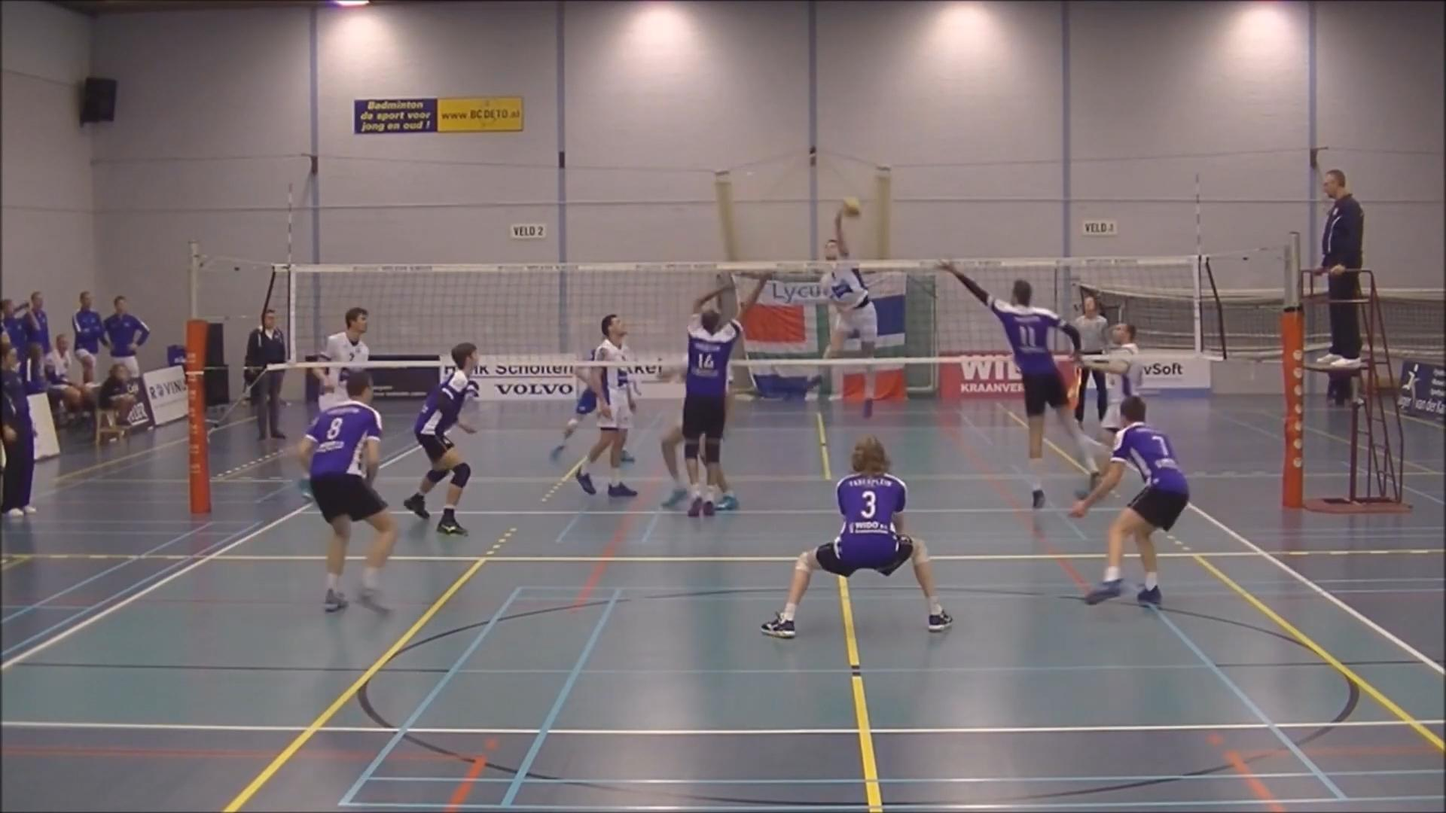Attack: (793, 199, 890, 415)
Block: (937, 260, 1105, 506), (652, 267, 761, 517)
Player: (761, 437, 952, 638), (1070, 397, 1188, 605), (300, 371, 396, 611), (402, 343, 477, 534), (575, 366, 636, 497), (1077, 324, 1143, 444), (550, 367, 596, 461), (319, 306, 369, 366), (715, 467, 738, 510)
ball: (842, 196, 863, 221)
